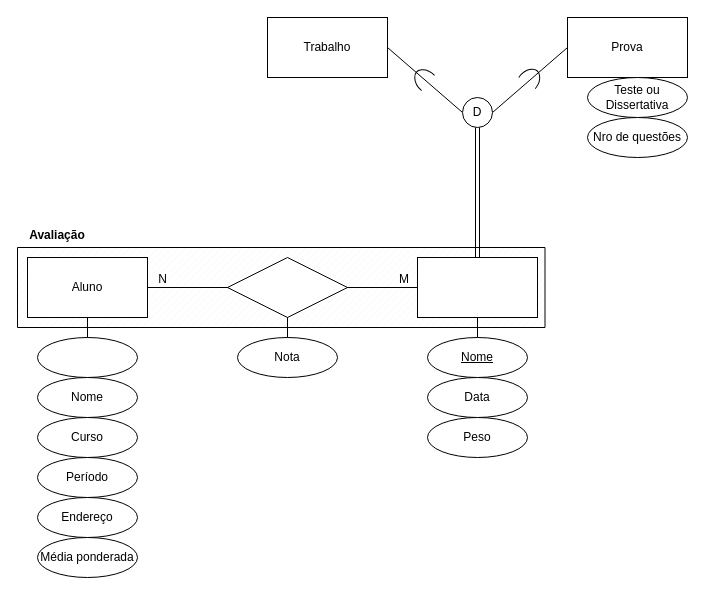
Some shapes in this 705 by 595 pixel diagram are drawn without their labels. Each missing label, with the centre of its shape:
"Atividade" goes at [477,287].
"Matrícula" goes at [87,357].
"Realiza" goes at [287,287].
